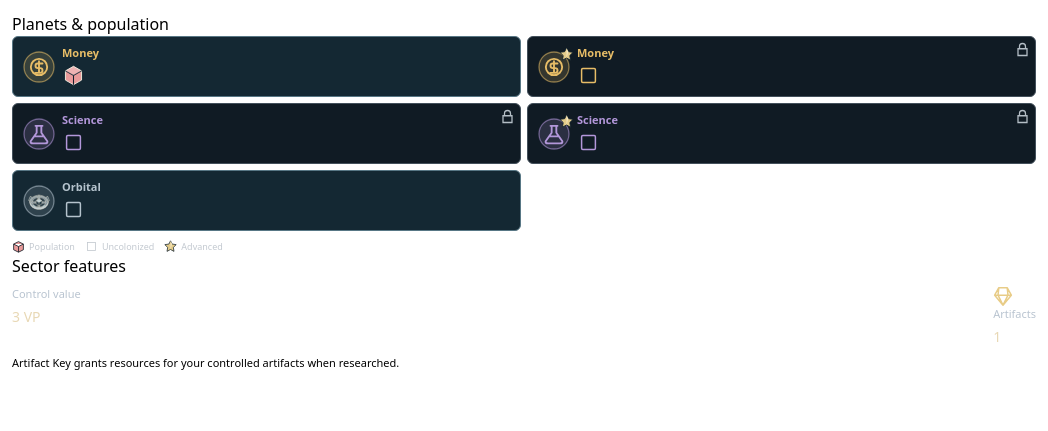
matches occupied cubes by square id and shows gray/orbital choices and actual legal colony eligibility
Expected: the picture named "Occupied · Money cube" is shown, 62,64 -> 85,87
Expected: the text "Orbital" is shown, 62,179 -> 101,194
Step 1. Click the button "Orbital" → (39, 200), box 12,170 -> 521,231
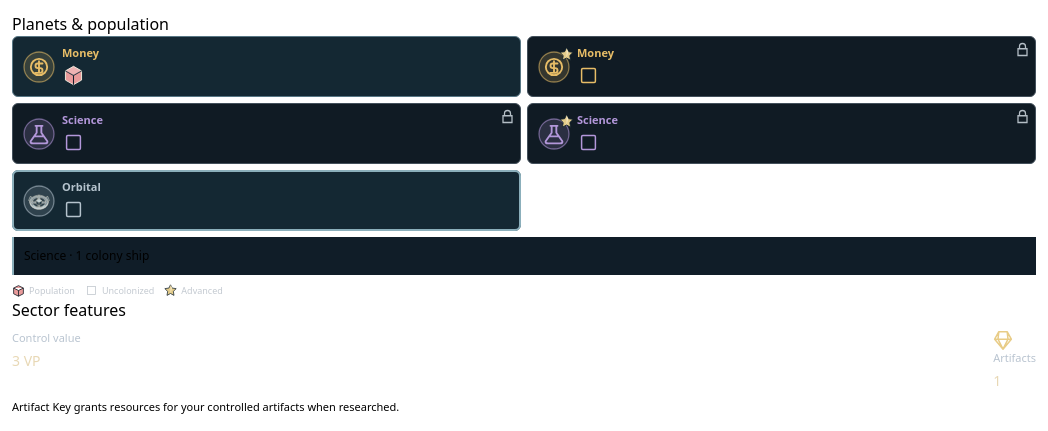
Result: the text "Science · 1 colony ship" is shown at 24,247 -> 149,264
